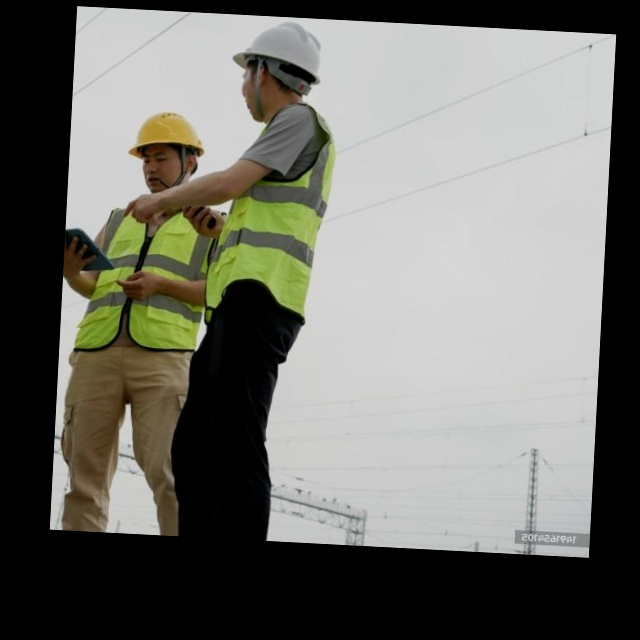Con_Casco: (228, 20, 325, 122), (126, 107, 204, 193)
Con_Chaleco: (209, 105, 336, 317), (76, 197, 219, 358)
